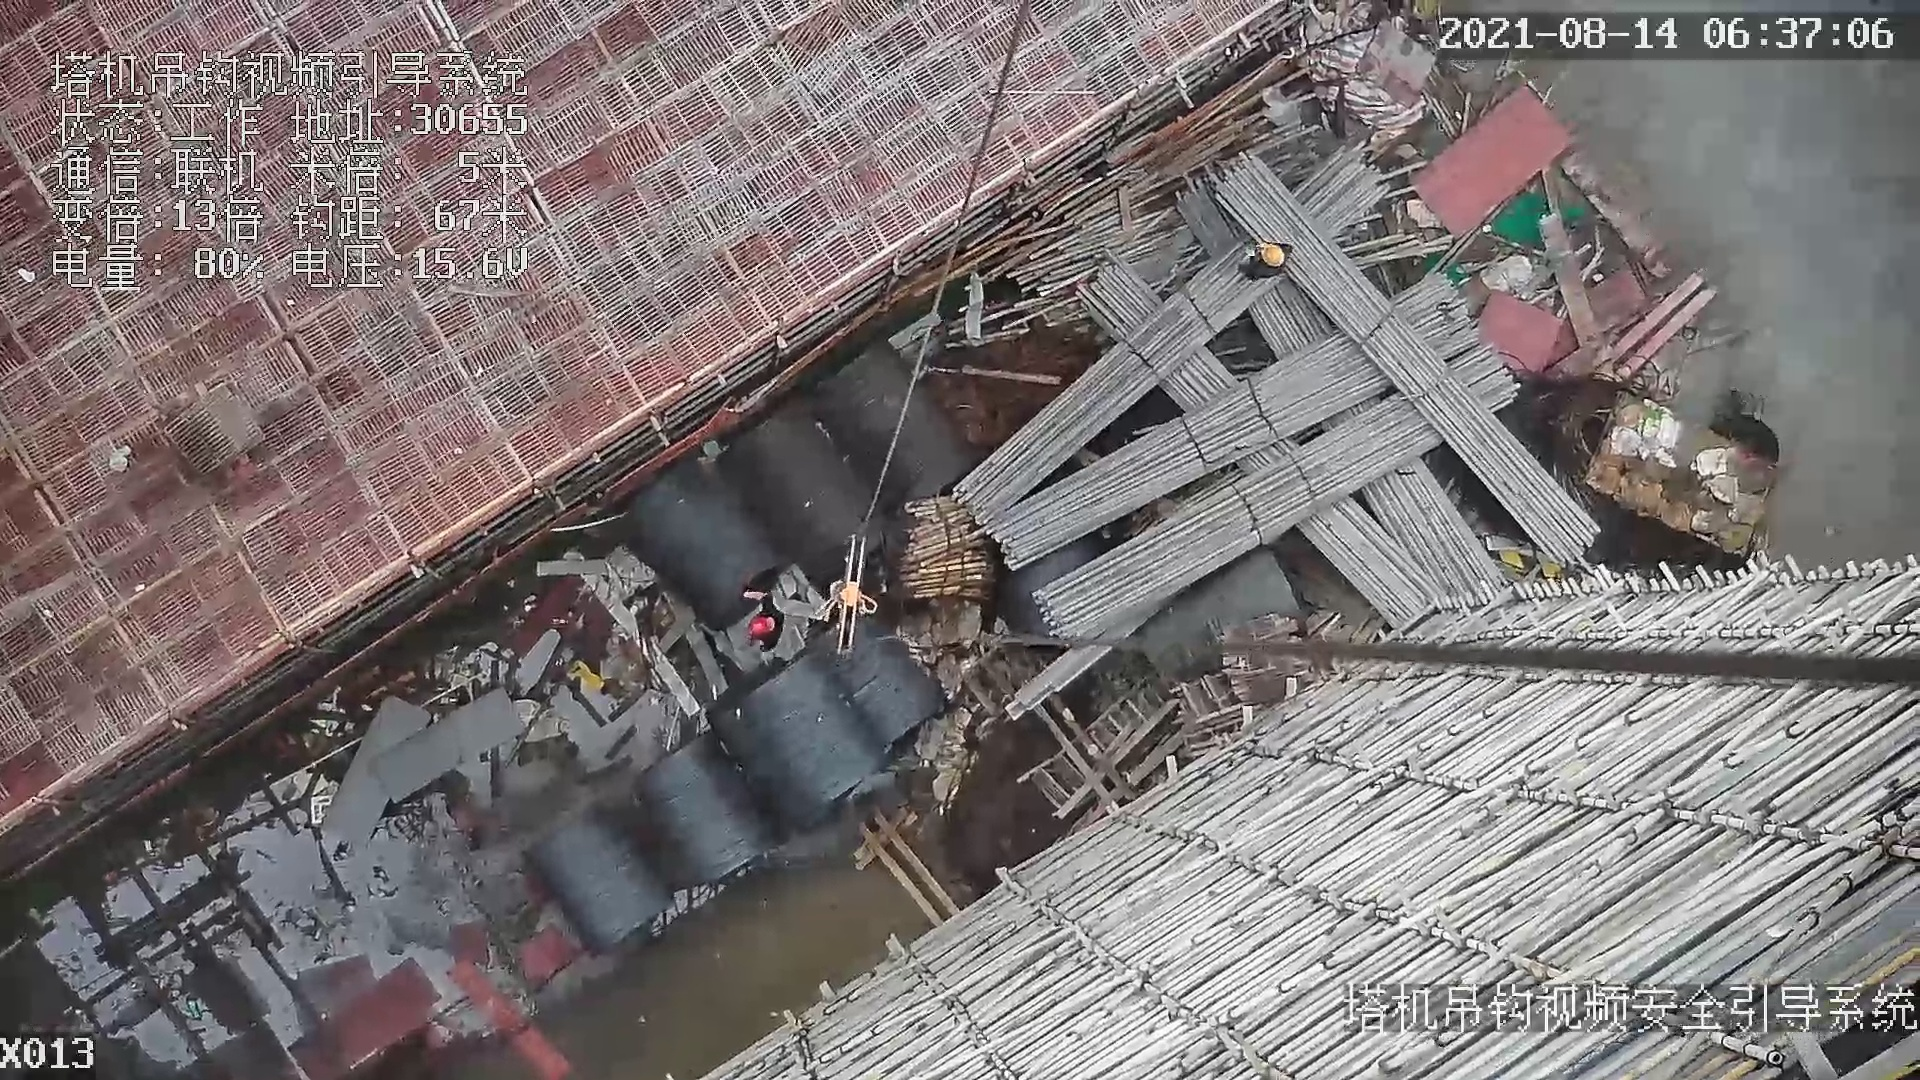helmet: (1261, 243, 1286, 269), (748, 613, 770, 638)
hook: (823, 535, 886, 659)
person: (741, 587, 786, 653), (1236, 237, 1300, 282)
scaffold: (1008, 139, 1608, 642), (903, 486, 1000, 618)
